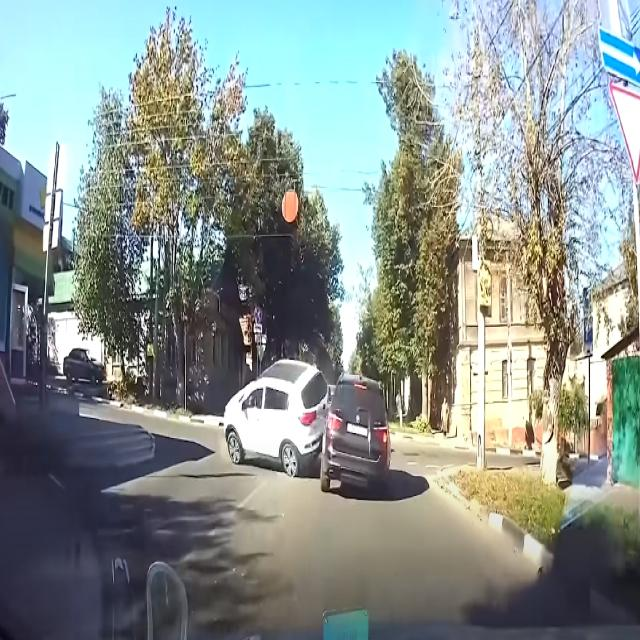accident: (218, 347, 420, 514)
